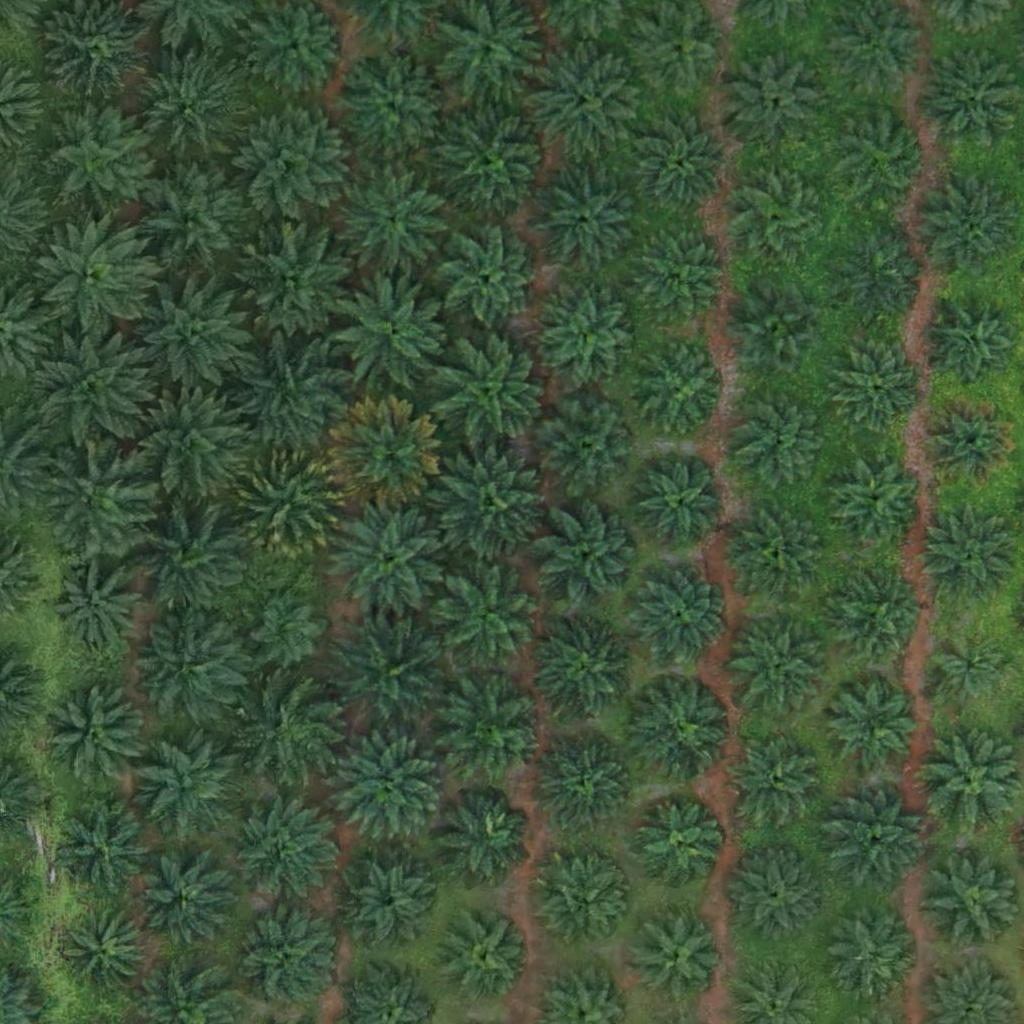Kelapa_Sawit: (331, 737, 444, 851), (130, 50, 243, 163), (138, 165, 251, 278), (238, 105, 351, 218), (241, 219, 354, 332), (240, 337, 353, 450), (529, 44, 642, 157), (532, 164, 645, 277), (433, 565, 546, 678), (329, 398, 442, 511), (231, 447, 344, 560), (331, 499, 444, 612), (328, 617, 441, 730), (38, 334, 150, 448), (132, 504, 244, 618), (136, 607, 248, 721), (41, 440, 153, 554), (38, 103, 150, 216), (37, 224, 149, 337), (140, 276, 252, 389), (338, 51, 450, 164), (338, 170, 450, 283), (335, 276, 447, 389), (438, 110, 550, 223), (439, 334, 551, 447), (432, 447, 544, 560), (129, 391, 241, 504), (439, 230, 539, 331), (631, 225, 731, 326), (921, 48, 1021, 149), (922, 181, 1022, 282), (826, 452, 926, 553), (827, 568, 927, 669), (825, 792, 925, 893), (732, 388, 832, 489), (729, 505, 829, 606), (728, 614, 828, 715), (727, 731, 827, 832), (725, 847, 825, 948), (628, 565, 728, 666), (633, 678, 733, 779), (538, 396, 638, 497), (536, 505, 636, 606), (534, 621, 634, 722), (536, 731, 636, 832), (444, 675, 544, 776), (135, 736, 235, 837), (44, 685, 144, 786), (52, 797, 152, 898), (233, 909, 333, 1010), (725, 46, 825, 146), (834, 107, 934, 207), (833, 227, 933, 327), (921, 506, 1021, 606), (433, 787, 533, 887), (240, 680, 340, 780), (233, 801, 333, 901), (732, 169, 820, 257), (735, 288, 823, 376), (835, 344, 923, 432), (635, 802, 723, 890), (341, 860, 429, 948), (62, 910, 150, 998), (635, 915, 723, 1003), (544, 294, 631, 382), (639, 118, 726, 206), (931, 301, 1018, 389), (927, 398, 1014, 486), (830, 680, 917, 768), (635, 347, 722, 435), (638, 462, 725, 550), (541, 861, 628, 949), (142, 862, 229, 950), (54, 563, 141, 651), (444, 911, 531, 999), (837, 908, 924, 996), (933, 634, 1008, 710), (249, 591, 324, 667)
